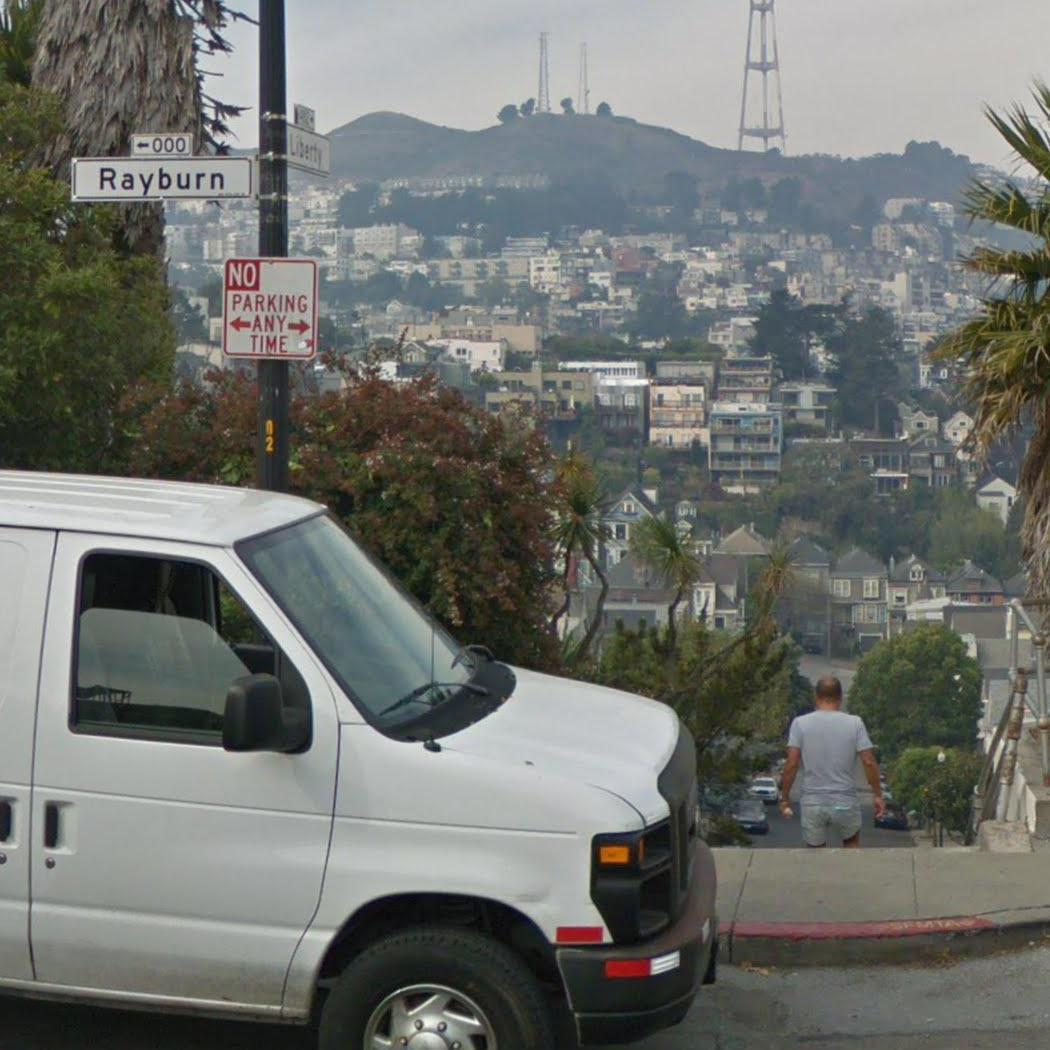No Parking Anytime: (218, 254, 323, 363)
